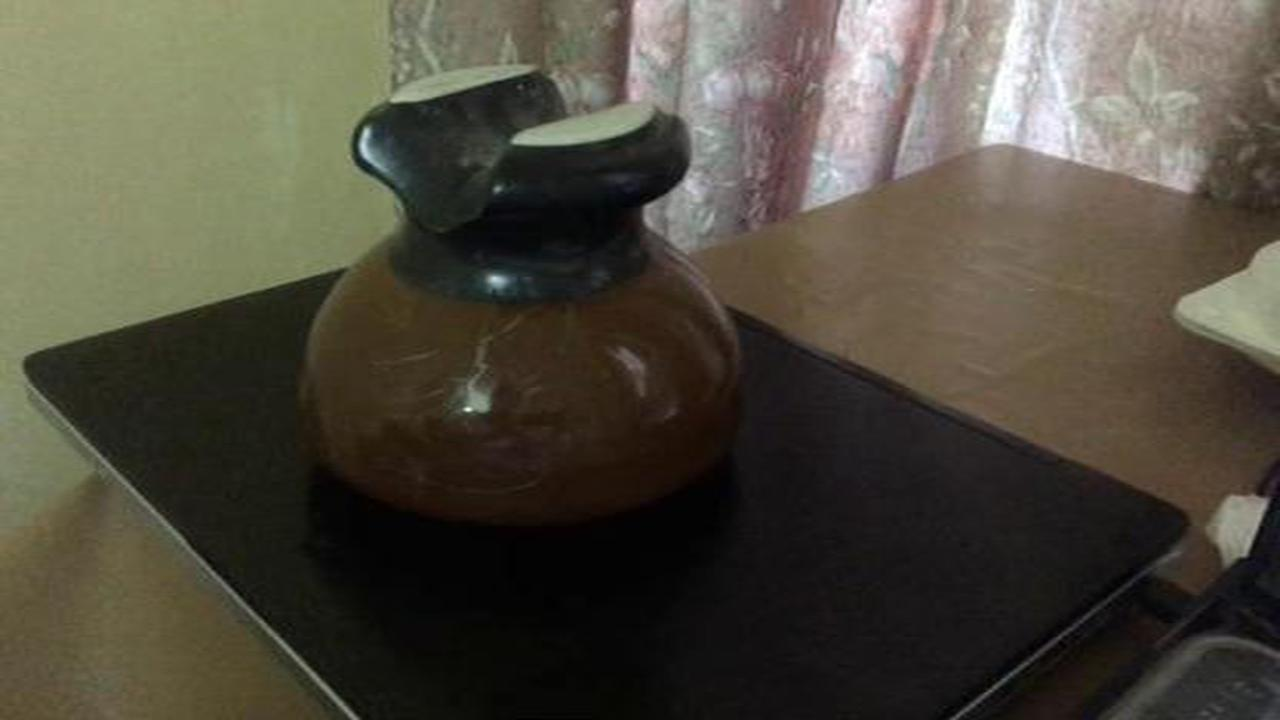insulator_pin: (274, 42, 776, 553)
